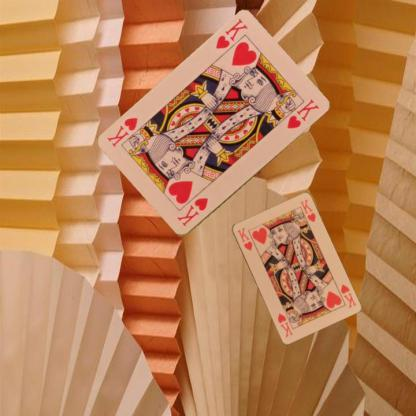Kh: (212, 16, 249, 51), (175, 195, 209, 228), (338, 281, 357, 309), (235, 225, 253, 252)
